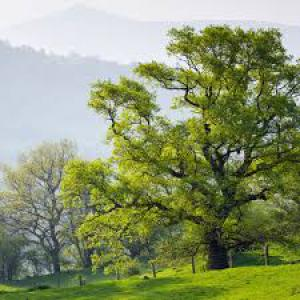Tree: (56, 20, 297, 273)
